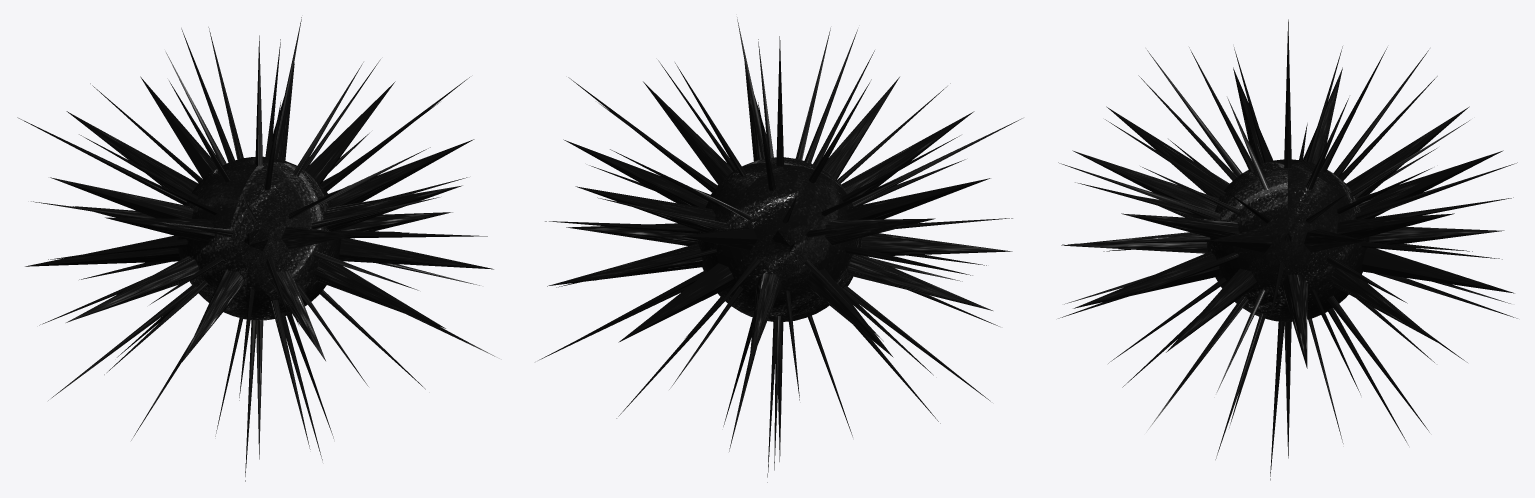
File: Urchin2.fbx
The picture shows the model from 3 angles, left to right: view 1: azimuth 30°, elevation 25°; view 2: azimuth 150°, elevation 25°; view 3: azimuth 270°, elevation 25°; orthographic projection.
Visible parts, largest first — view 1: 성게2; view 2: 성게2; view 3: 성게2.
Boxes of the visible parts, box(x1,y1,x2,y2) form: 성게2: box(17, 17, 501, 481); 성게2: box(538, 17, 1022, 482); 성게2: box(1058, 19, 1517, 480).
Bounding box in the file's own units: 317 × 306 × 301.
Materials: 1 (1 with a texture image).
